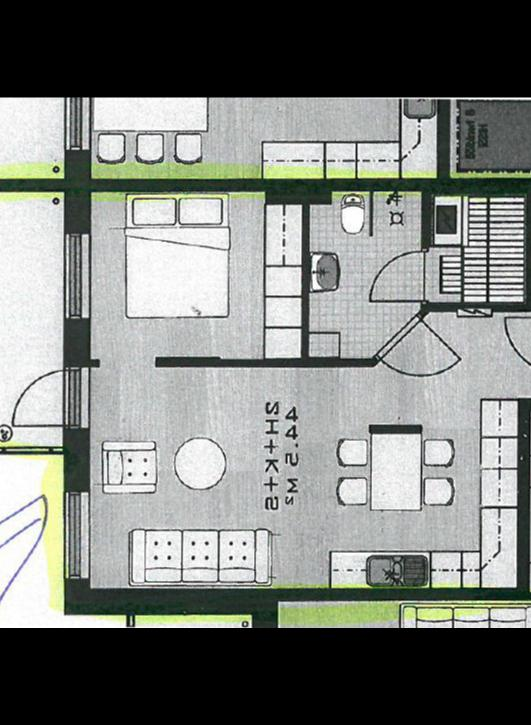door: (373, 313, 462, 383), (8, 362, 88, 435), (364, 240, 428, 308), (499, 313, 531, 379)
window: (56, 486, 96, 586), (57, 225, 94, 324), (58, 97, 94, 155)
